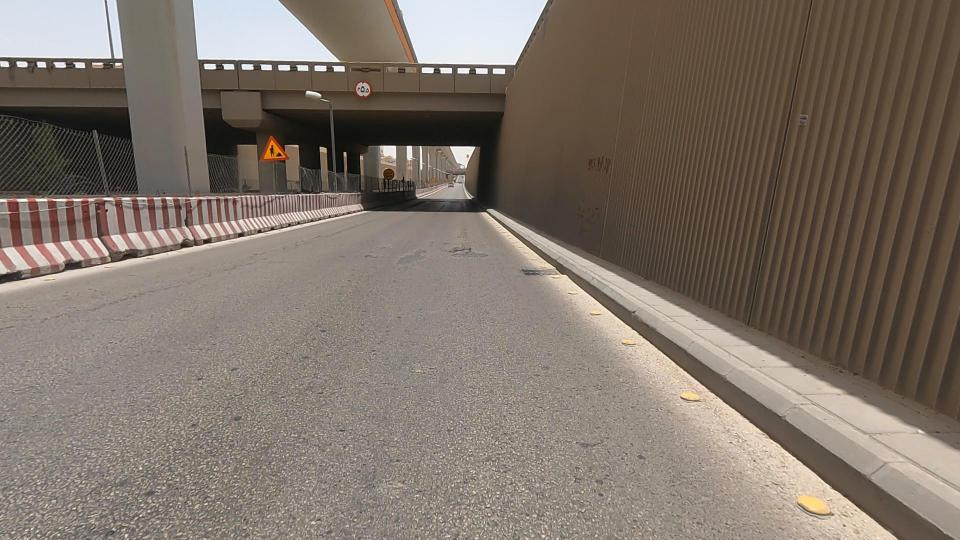CONSTRUCTION_ROAD: (0, 72, 281, 308), (159, 122, 357, 256), (280, 150, 458, 230)
